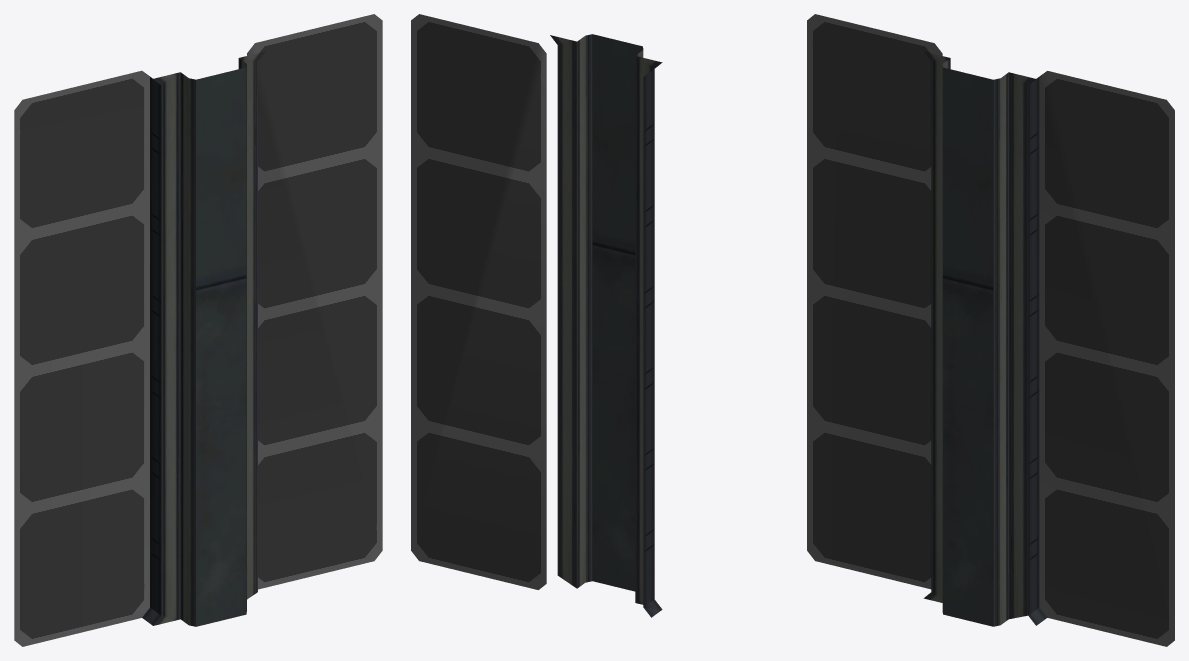
Rendered from doorIn.obj.
3 renders of one model, left to right at view 1: azimuth 30°, elevation 25°; view 2: azimuth 150°, elevation 25°; view 3: azimuth 330°, elevation 25°, orthographic.
Visible parts, largest first — view 1: spacecamp.001, spacecamp.004, spacecamp.003, spacecamp.002; view 2: spacecamp.001, spacecamp.003, spacecamp.004, spacecamp.002; view 3: spacecamp.001, spacecamp.004, spacecamp.003, spacecamp.002.
Part boxes in pixels (<box>): spacecamp.001: <box>14,14,382,646</box>; spacecamp.004: <box>196,67,246,626</box>; spacecamp.003: <box>153,51,265,626</box>; spacecamp.002: <box>142,72,161,625</box>; spacecamp.001: <box>411,14,546,589</box>; spacecamp.003: <box>550,34,662,604</box>; spacecamp.004: <box>592,34,642,591</box>; spacecamp.002: <box>643,65,662,617</box>; spacecamp.001: <box>807,14,1174,646</box>; spacecamp.004: <box>943,67,993,626</box>; spacecamp.003: <box>923,51,1035,626</box>; spacecamp.002: <box>1028,72,1047,625</box>.
Bounding box in the file's own units: 4.05 × 5.76 × 0.4352.
4 materials, 4 textured.
